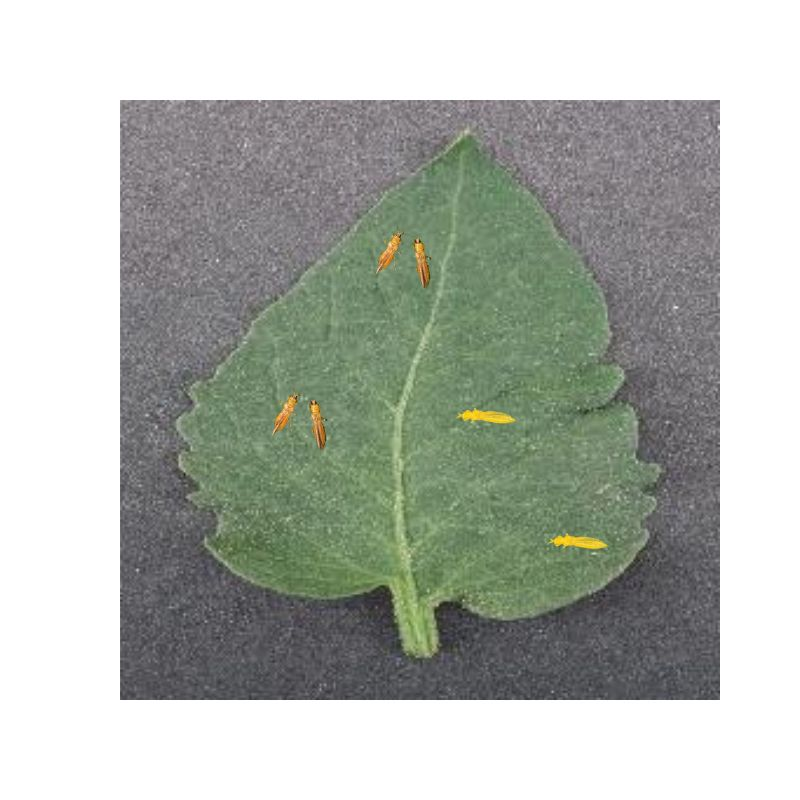thrips: (304, 393, 331, 453), (266, 389, 300, 436), (374, 227, 404, 277), (545, 529, 610, 552), (409, 234, 434, 290), (458, 405, 515, 428)
